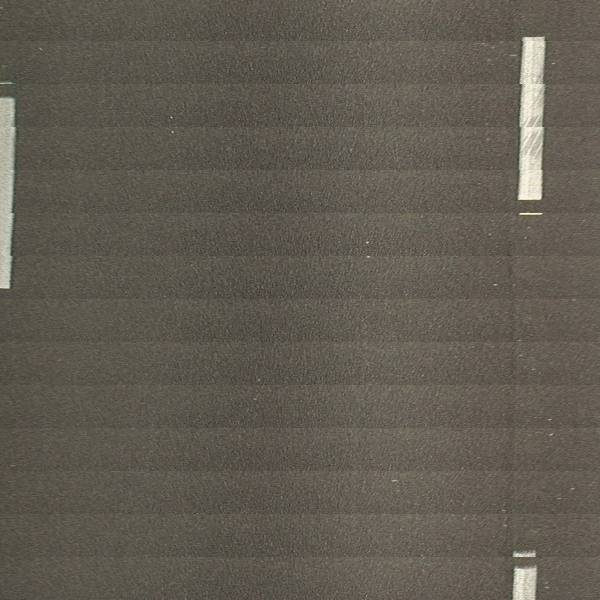road_damage: (502, 246, 519, 547)
